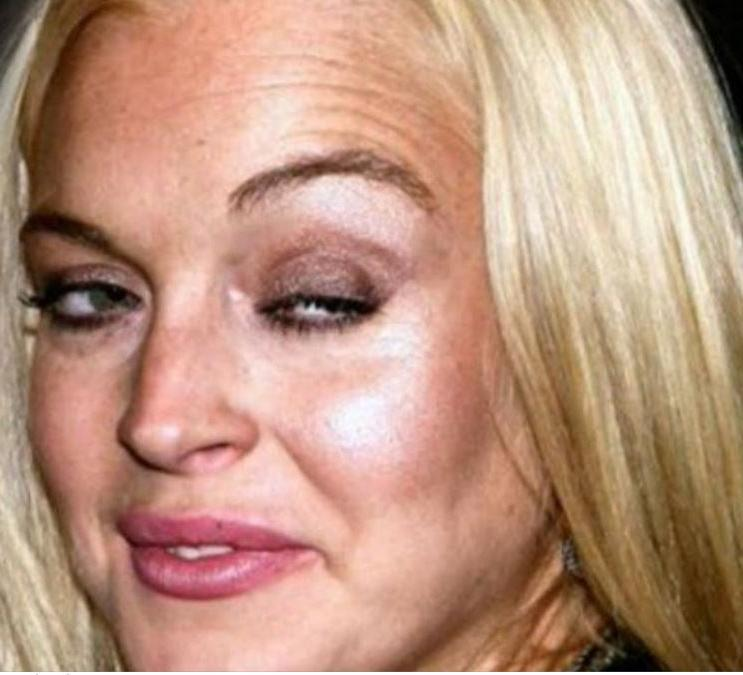Drunk: (18, 21, 471, 672)
